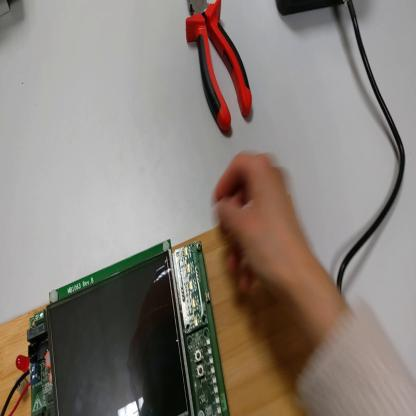hand: (214, 152, 303, 301)
low voltage board: (2, 240, 231, 415)
pliers: (185, 1, 254, 137)
welder station: (276, 2, 349, 13)
working area: (1, 196, 305, 416)
